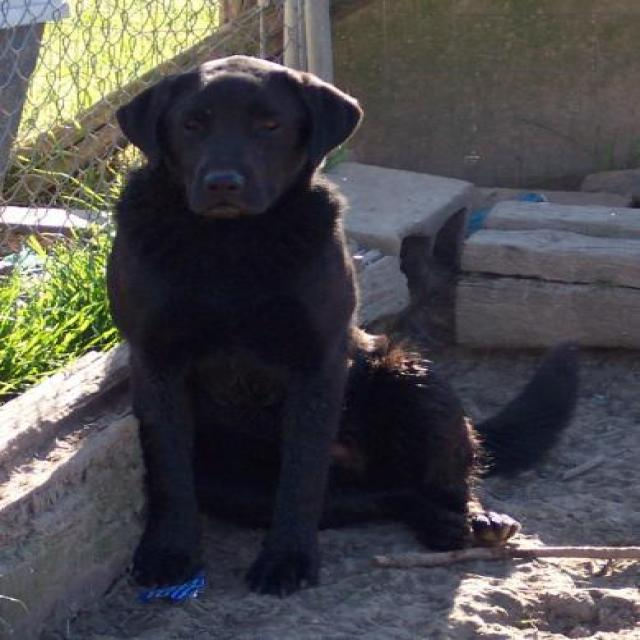dogs: (105, 56, 582, 602)
